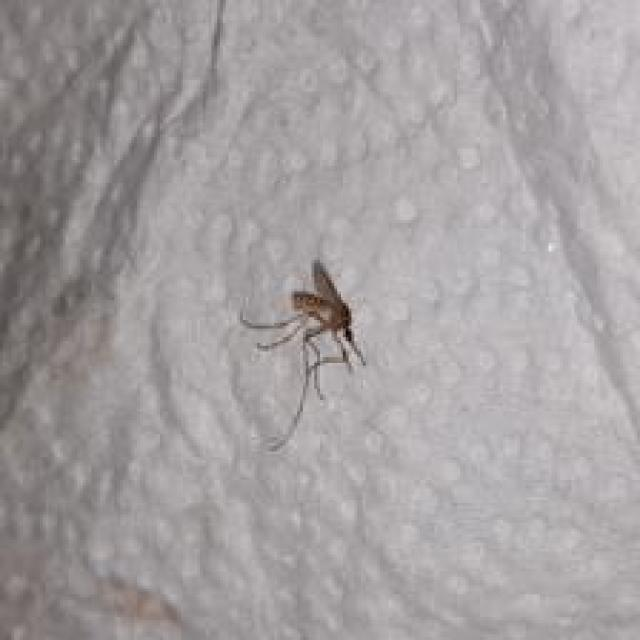Culex: (239, 258, 367, 453)
